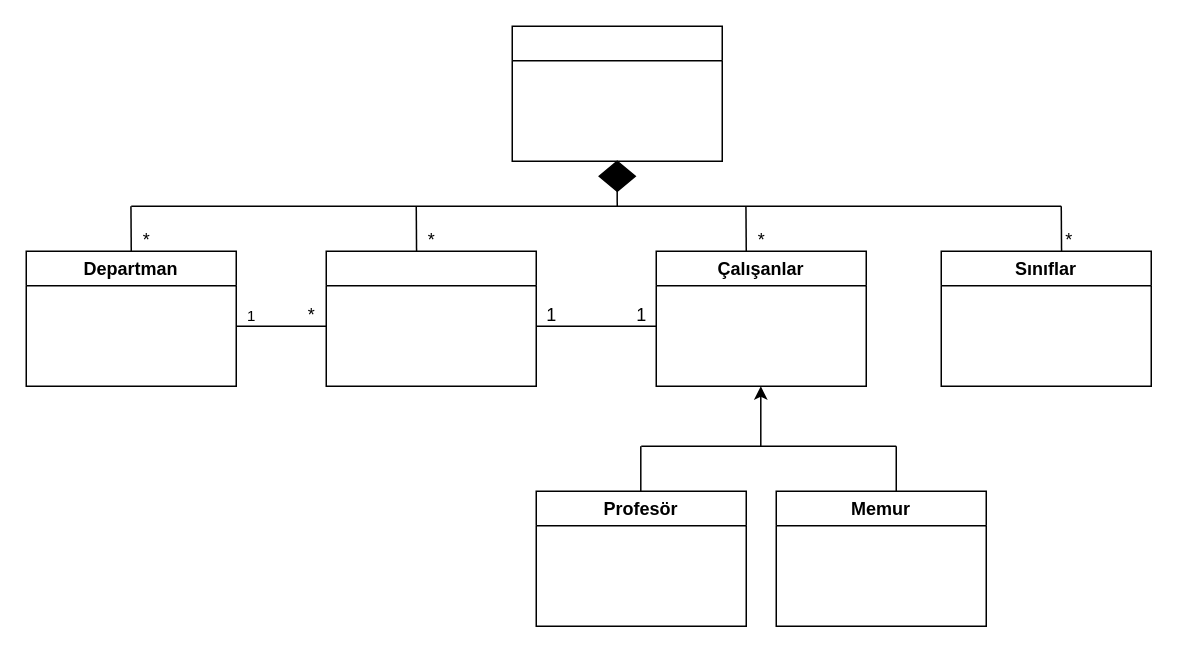
Some shapes in this 1178 by 653 pixel diagram are drawn without their labels. The centre of each missing label's shape, as x and y in pixels:
Çalışma Ofisleri: (430,318)
Üniversite: (616,93)
